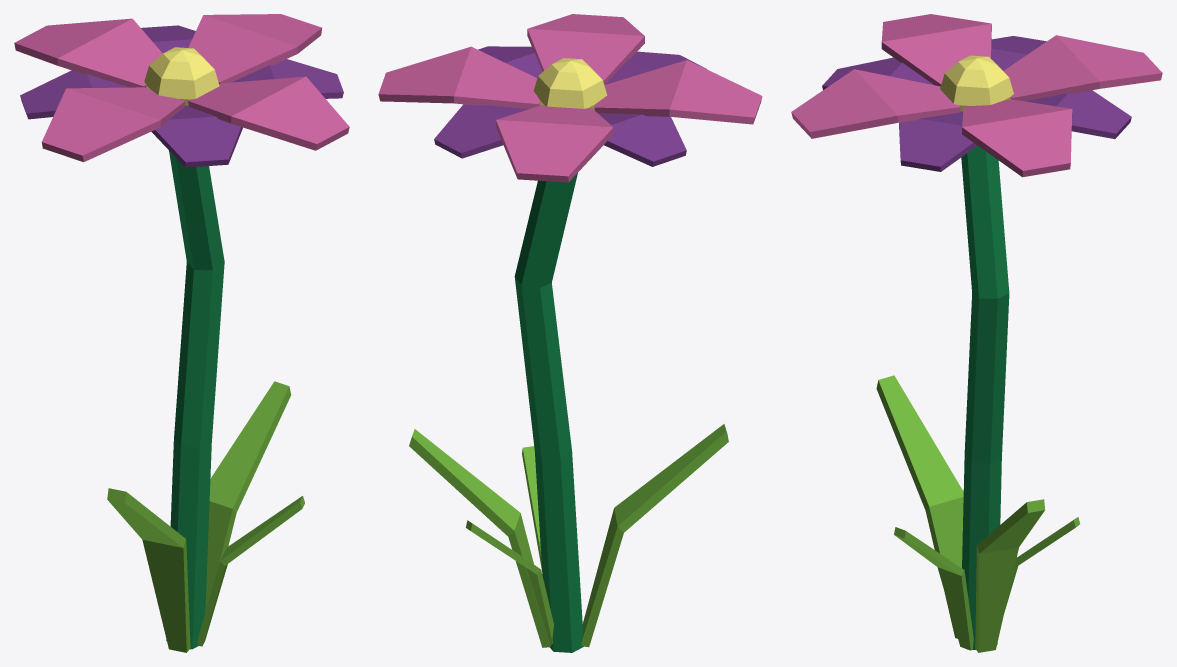
The model's file is Flower_Purple.fbx.
3 renders of one model, left to right at view 1: azimuth 30°, elevation 25°; view 2: azimuth 150°, elevation 25°; view 3: azimuth 270°, elevation 25°, orthographic.
Visible parts, largest first — view 1: Flower_Purple; view 2: Flower_Purple; view 3: Flower_Purple.
Part boxes in pixels (x1,y1,x2,y2): Flower_Purple: (14,14,349,652); Flower_Purple: (378,14,762,652); Flower_Purple: (791,14,1162,652).
Size of the model in its own units: 10.52 by 18.21 by 10.52.
